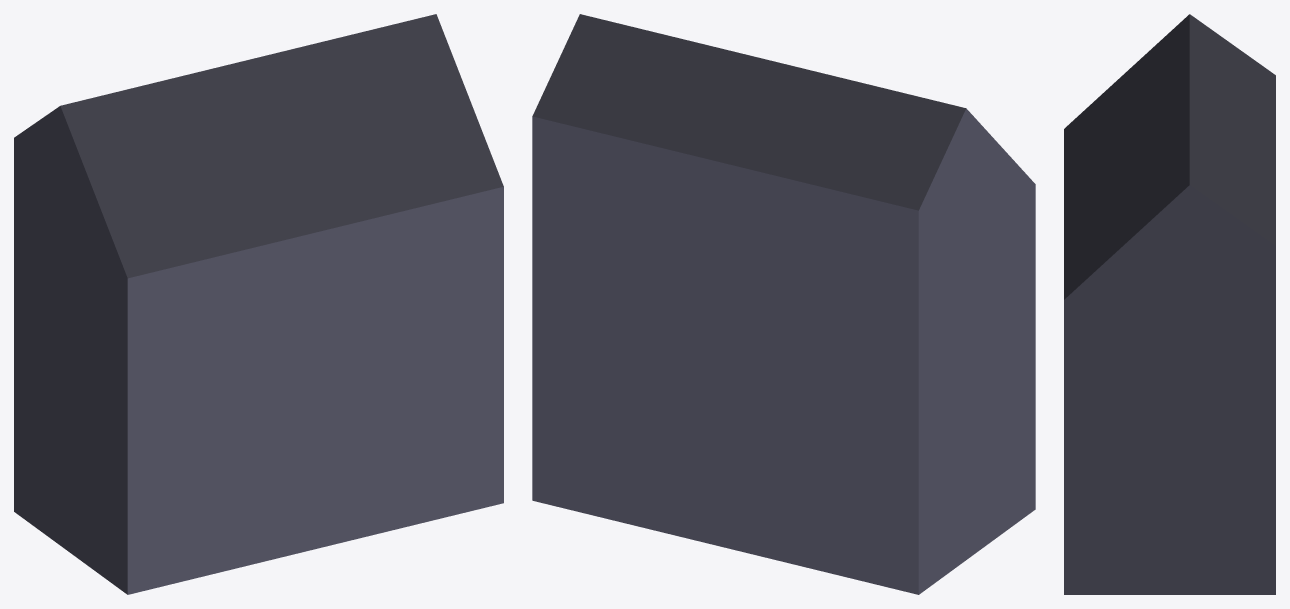
Rendered from Building_02_Wall.fbx.
The picture shows the model from 3 angles, left to right: view 1: azimuth 30°, elevation 25°; view 2: azimuth 150°, elevation 25°; view 3: azimuth 270°, elevation 25°; orthographic projection. The views are drawn at different scales.
Visible parts, largest first — view 1: Building_02_Wall; view 2: Building_02_Wall; view 3: Building_02_Wall.
Part boxes in pixels (x1,y1,x2,y2): Building_02_Wall: [14, 14, 503, 594]; Building_02_Wall: [532, 14, 1035, 594]; Building_02_Wall: [1064, 14, 1275, 594].
Bounding box in the file's own units: 110 × 122 × 57.32.
